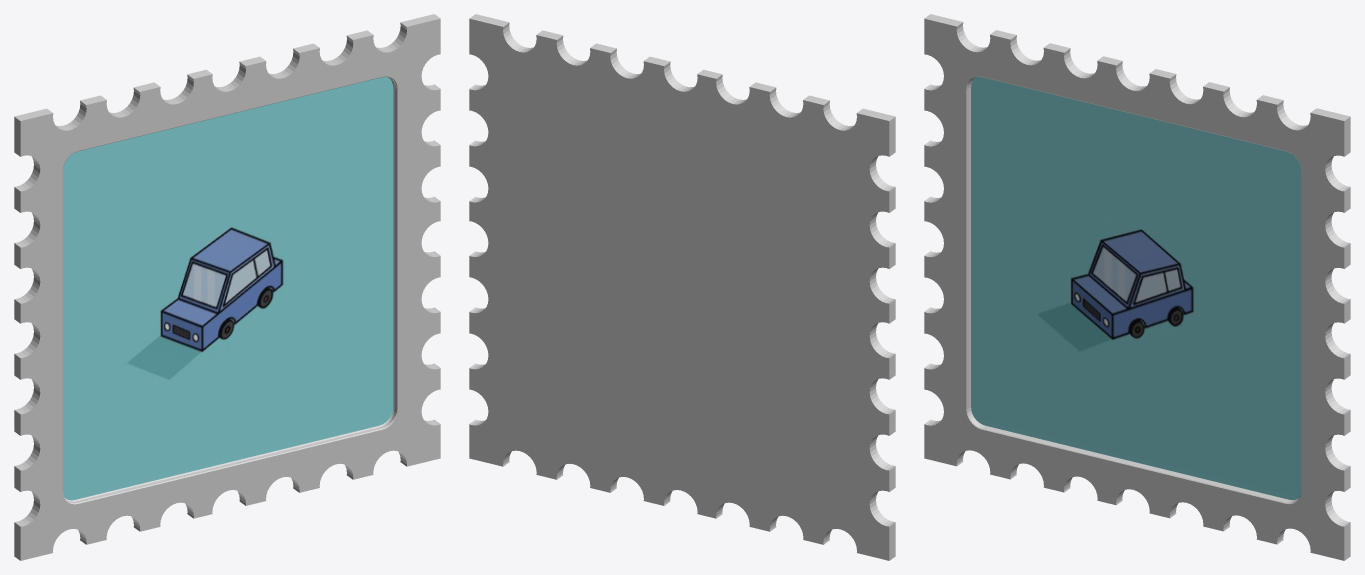
File: B_Olivia_21.glb
3 renders of one model, left to right at view 1: azimuth 30°, elevation 25°; view 2: azimuth 150°, elevation 25°; view 3: azimuth 330°, elevation 25°, orthographic.
Visible parts, largest first — view 1: Plane025, Plane024; view 2: Plane024; view 3: Plane025, Plane024.
Part boxes in pixels (box(x1,y1,x2,y2)): Plane025: box(63, 77, 393, 500); Plane024: box(14, 14, 440, 560); Plane024: box(469, 14, 895, 560); Plane025: box(971, 77, 1301, 499); Plane024: box(924, 14, 1350, 560).
Size of the model in its own units: 0.3 by 0.3 by 0.00781.
Materials: 2 (1 with a texture image).
